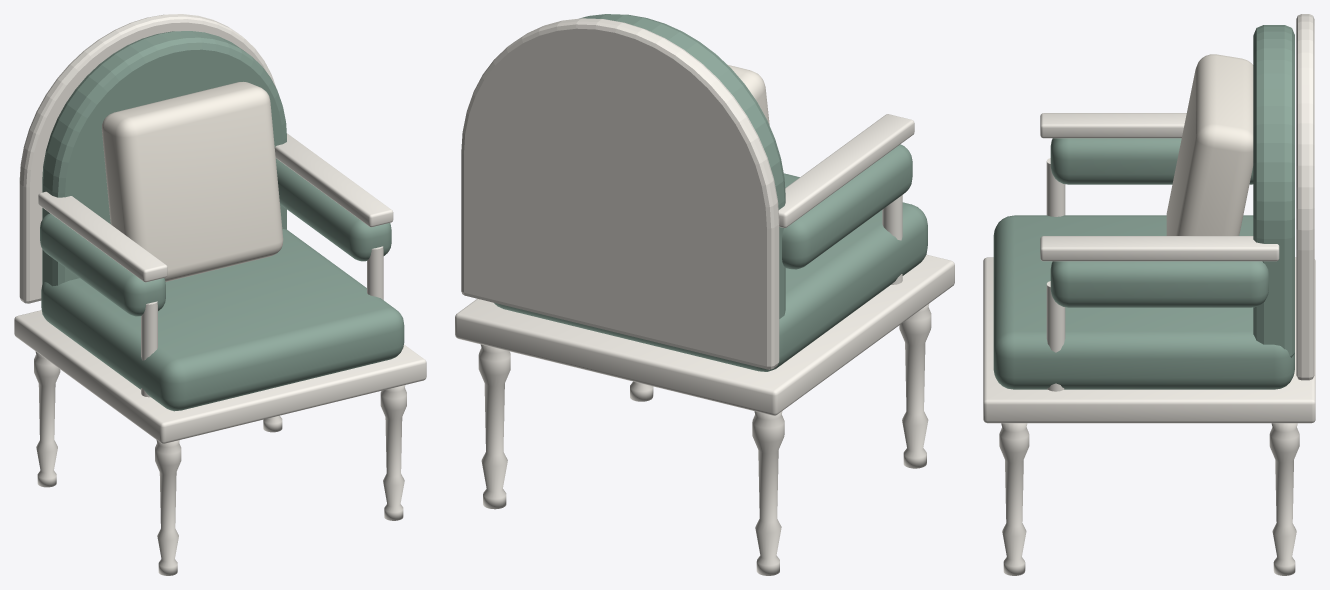
The model's file is bergere_green.glb.
3 views of the same model, side by side, from view 1: azimuth 30°, elevation 25°; view 2: azimuth 150°, elevation 25°; view 3: azimuth 270°, elevation 25° (orthographic). The views are drawn at different scales.
Parts seen in each view (by area): view 1: seat, cushion, back, seatframe, backframe, arm, arm.001, armrest, armrest.001, leg, leg.002, leg.001 (+2 smaller); view 2: backframe, seatframe, seat, arm, armrest, back, leg.001, leg.003, leg, cushion, armpost; view 3: seat, seatframe, cushion, back, arm.001, backframe, armrest.001, arm, armrest, leg.002, leg.003, armpost.001 (+1 smaller).
Part boxes in pixels (x1=…): seat: x1=41, y1=229, x2=404, y2=411; cushion: x1=102, y1=81, x2=283, y2=281; back: x1=42, y1=31, x2=286, y2=286; seatframe: x1=14, y1=310, x2=426, y2=443; backframe: x1=19, y1=14, x2=276, y2=303; arm: x1=40, y1=213, x2=165, y2=316; arm.001: x1=276, y1=159, x2=391, y2=261; armrest: x1=38, y1=191, x2=167, y2=282; armrest.001: x1=275, y1=133, x2=393, y2=227; leg: x1=155, y1=440, x2=181, y2=575; leg.002: x1=380, y1=385, x2=406, y2=520; leg.001: x1=34, y1=351, x2=60, y2=487; backframe: x1=461, y1=18, x2=779, y2=369; seatframe: x1=455, y1=254, x2=954, y2=415; seat: x1=494, y1=173, x2=927, y2=371; arm: x1=782, y1=144, x2=912, y2=269; armrest: x1=778, y1=114, x2=914, y2=227; back: x1=579, y1=14, x2=785, y2=318; leg.001: x1=752, y1=411, x2=784, y2=575; leg.003: x1=478, y1=344, x2=510, y2=509; leg: x1=899, y1=303, x2=931, y2=468; cushion: x1=727, y1=64, x2=769, y2=124; armpost: x1=882, y1=195, x2=902, y2=284; seat: x1=993, y1=215, x2=1294, y2=389; seatframe: x1=983, y1=257, x2=1315, y2=423; cushion: x1=1166, y1=54, x2=1253, y2=235; back: x1=1253, y1=25, x2=1294, y2=357; arm.001: x1=1050, y1=261, x2=1268, y2=307; backframe: x1=1296, y1=14, x2=1314, y2=380; armrest.001: x1=1040, y1=236, x2=1279, y2=261; arm: x1=1050, y1=138, x2=1253, y2=184; armrest: x1=1040, y1=113, x2=1186, y2=138; leg.002: x1=999, y1=423, x2=1029, y2=575; leg.003: x1=1269, y1=423, x2=1299, y2=575; armpost.001: x1=1046, y1=281, x2=1065, y2=391.
Bounding box in the file's own units: 0.66 × 1.02 × 0.64.
